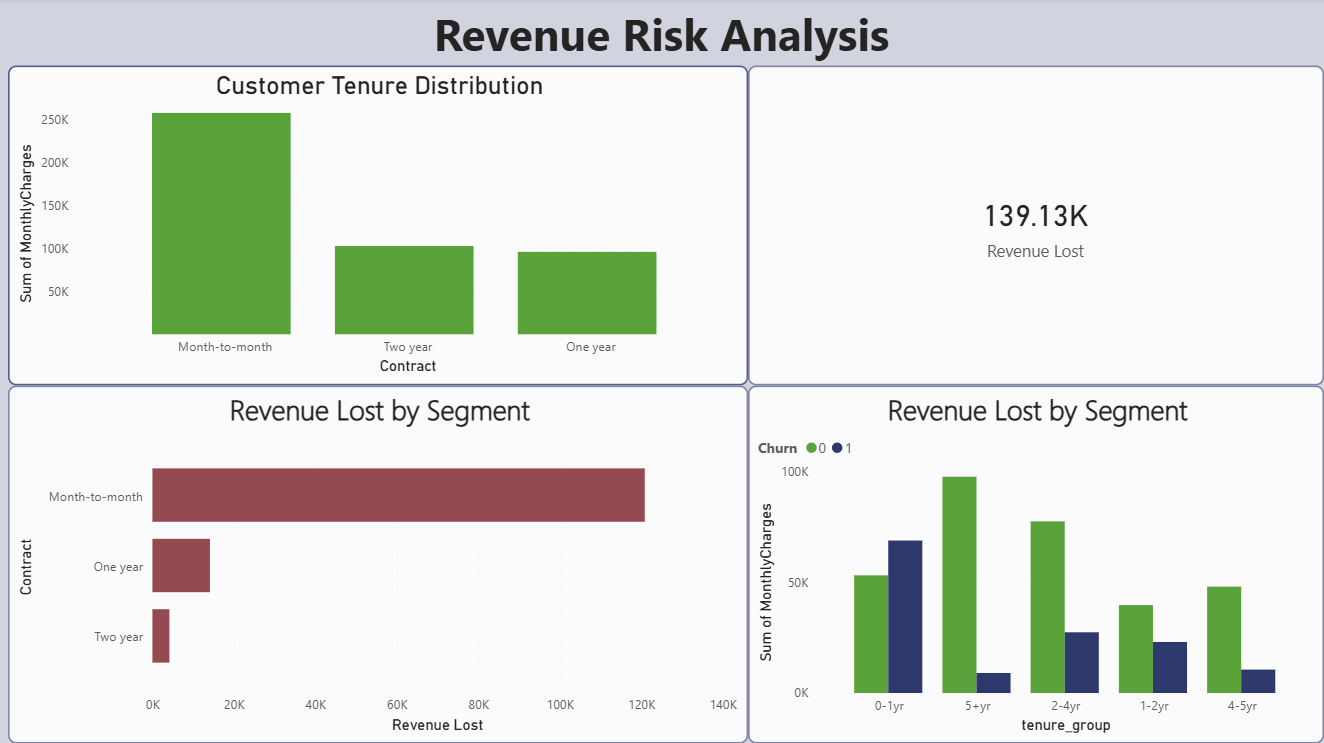

Layout of this report page (visuals, bound fields, positions):
{"tool":"powerbi","page":{"name":"Revenue Risk Analysis","canvas":[1280,720],"ordinal":3},"visuals":[{"type":"card","title":"Churn by Internet Service","fields":{"Values":["cleaned_churn_data.Revenue Lost"]},"box":[724.3,65.7,555.7,308.6],"z":0},{"type":"textbox","box":[307.1,0,665.7,82.9],"z":1000},{"type":"columnChart","title":"Customer Tenure Distribution","fields":{"Y":["Sum(cleaned_churn_data.MonthlyCharges)"],"Category":["cleaned_churn_data.Contract"]},"box":[10,65.7,714.3,308.6],"z":2000},{"type":"clusteredBarChart","title":"Revenue Lost by Segment","fields":{"Category":["cleaned_churn_data.Contract"],"Y":["cleaned_churn_data.Revenue Lost"]},"box":[10,374.3,714.3,345.7],"z":3000},{"type":"clusteredColumnChart","title":"Revenue Lost by Segment","fields":{"Category":["cleaned_churn_data.tenure_group"],"Y":["Sum(cleaned_churn_data.MonthlyCharges)"],"Series":["cleaned_churn_data.Churn"]},"box":[724.3,374.3,555.7,345.7],"z":3001}]}

Visuals, with their boxes in screenshot pixels (x1, y1, x2, y2), scaled from the page's 1280x720 canvas onto the 1324x743 screenshot:
"Churn by Internet Service" card: (749, 68, 1323, 386)
textbox: (318, 0, 1006, 86)
"Customer Tenure Distribution" columnChart: (10, 68, 749, 386)
"Revenue Lost by Segment" clusteredBarChart: (10, 386, 749, 742)
"Revenue Lost by Segment" clusteredColumnChart: (749, 386, 1323, 742)
